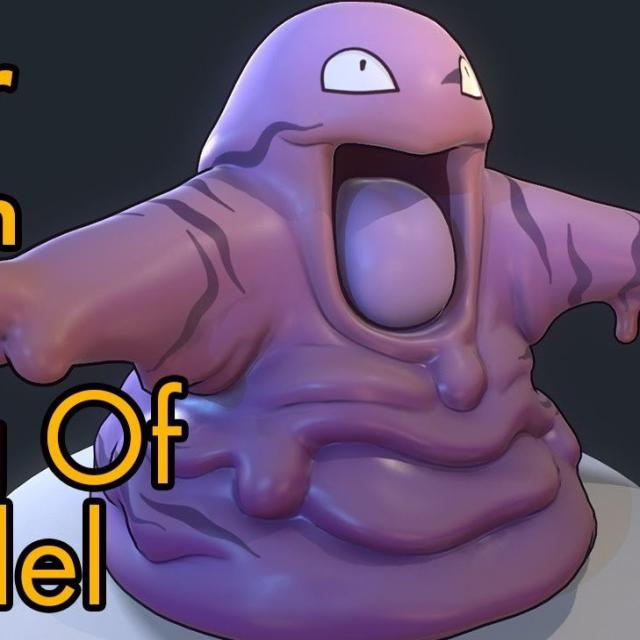Grimer: (169, 6, 546, 628)
